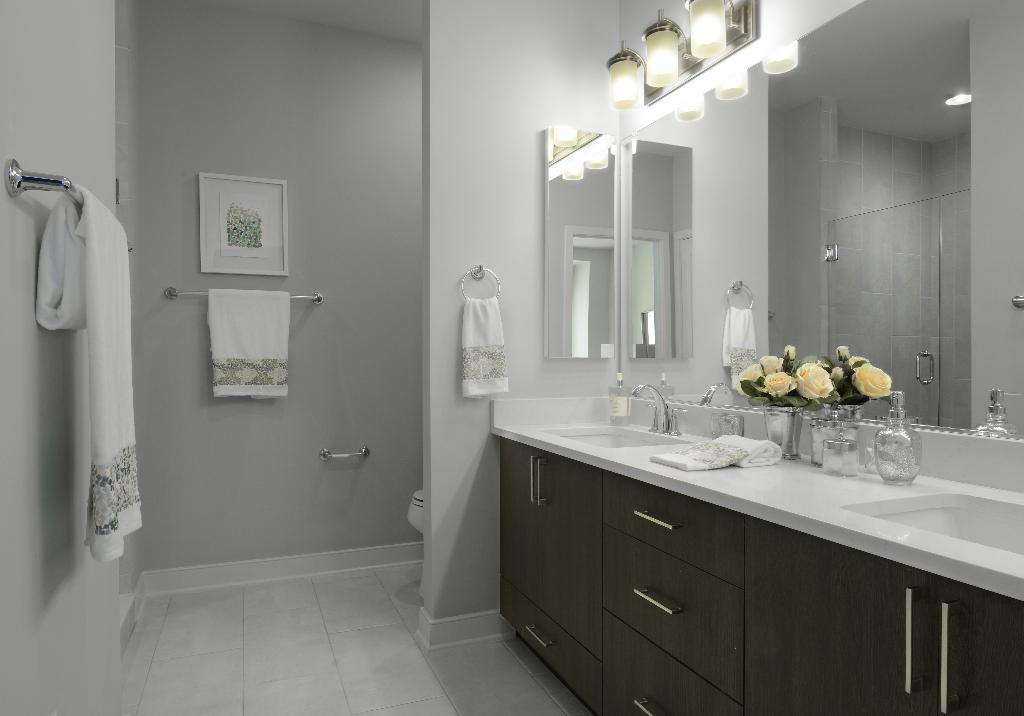tap: (630, 381, 668, 432)
